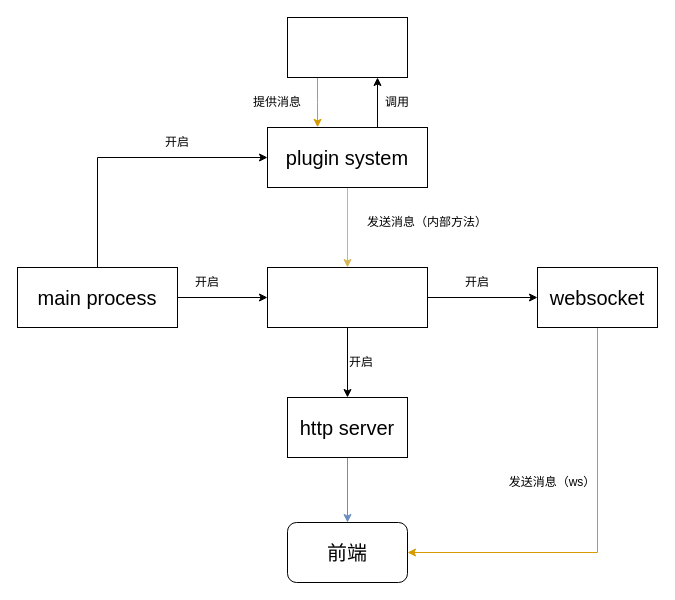
Image size: 675x600. Some labels were removed from this diagram. Each missing label, with the box of its shape:
messages: (266, 266, 428, 328)
msg plugins: (286, 16, 408, 78)
